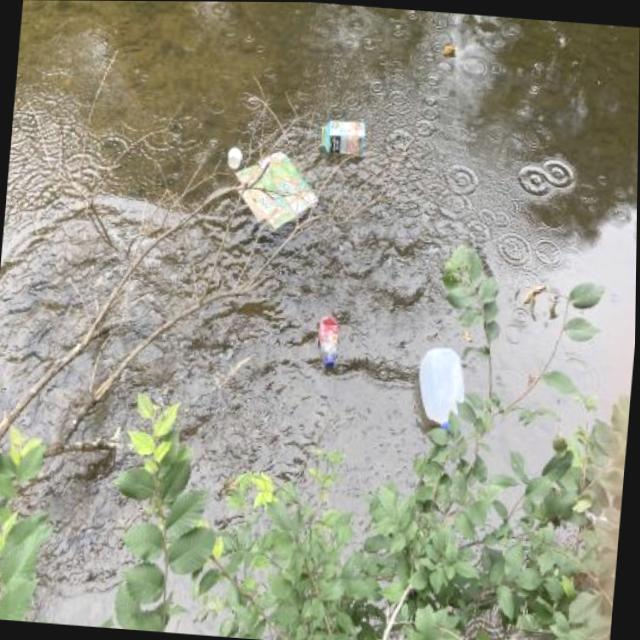Cardboard: (226, 140, 322, 239), (313, 112, 372, 157)
Paper: (221, 140, 243, 169)
Plastic: (411, 340, 474, 435), (314, 306, 346, 368)
